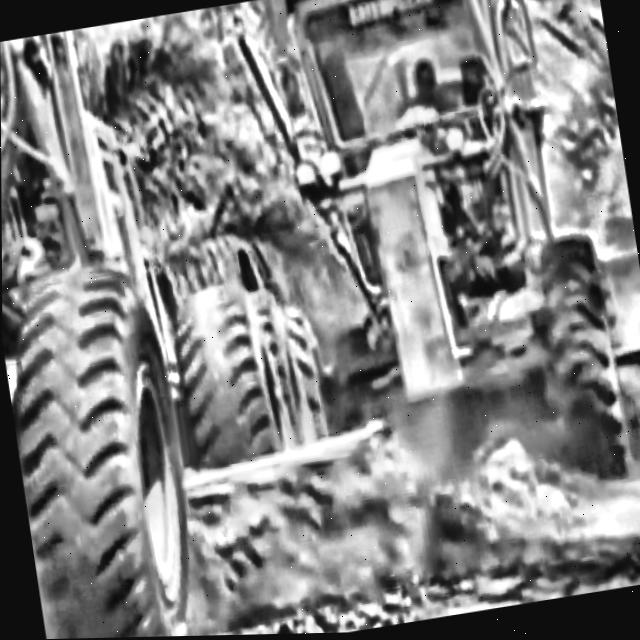buldozerpayloadergrader: (208, 0, 640, 527), (0, 7, 302, 640)
